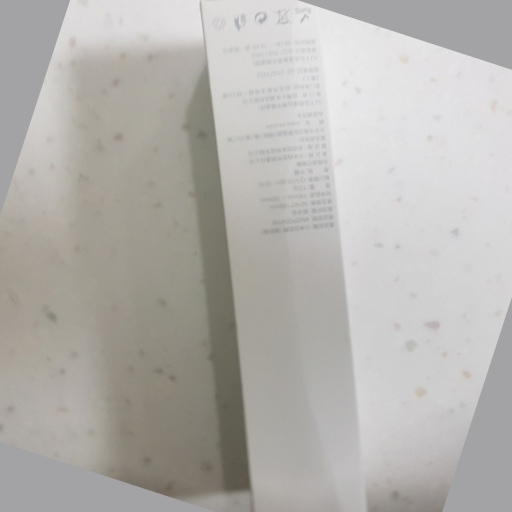Paper_0: (192, 1, 398, 512)
